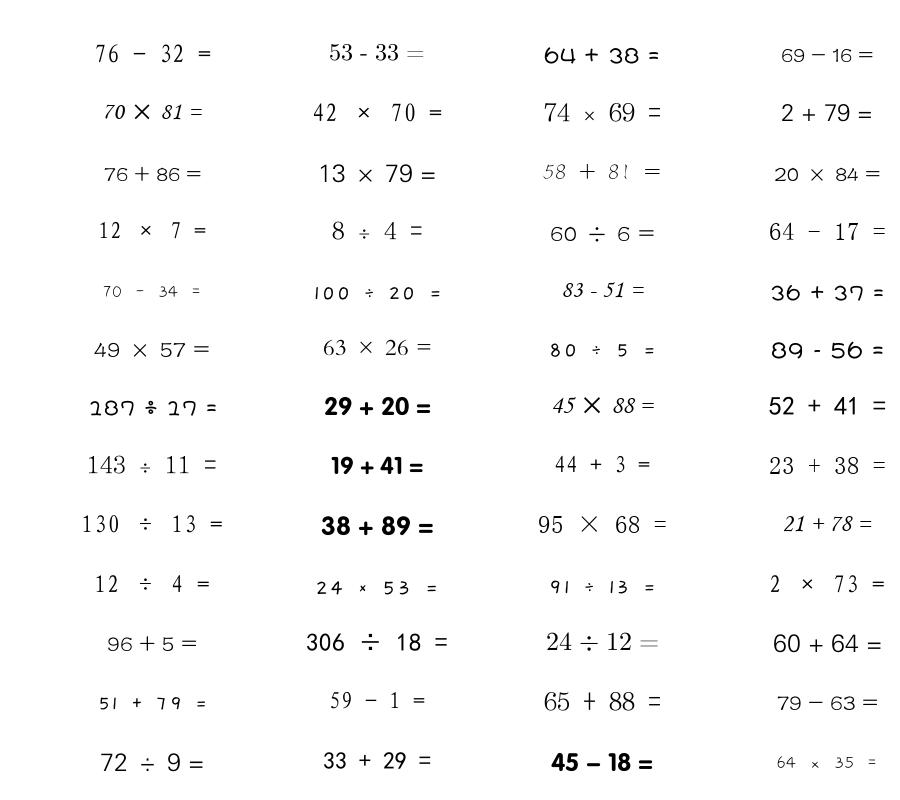MQ: (306, 633, 448, 652), (81, 515, 223, 533), (312, 103, 442, 122), (87, 455, 217, 474), (544, 102, 661, 122), (544, 691, 661, 711), (321, 516, 434, 536), (318, 164, 436, 183), (94, 44, 211, 63), (769, 396, 886, 415), (538, 516, 667, 533), (546, 632, 659, 651), (324, 396, 431, 416), (769, 222, 886, 240), (94, 575, 210, 593), (769, 575, 885, 593), (773, 634, 882, 653), (88, 400, 217, 416), (551, 752, 653, 772), (771, 341, 884, 359), (769, 457, 886, 474), (100, 753, 204, 772), (544, 47, 660, 64), (98, 221, 206, 239), (770, 284, 884, 301), (543, 164, 661, 180), (94, 342, 210, 358), (323, 339, 432, 356), (323, 752, 431, 769), (551, 397, 654, 414), (331, 456, 423, 475), (315, 581, 439, 595), (332, 221, 423, 240), (329, 43, 425, 61), (554, 455, 650, 473), (329, 691, 425, 709), (550, 226, 655, 242), (313, 287, 442, 300), (781, 104, 873, 122), (102, 104, 202, 120), (774, 167, 880, 182), (104, 166, 201, 182), (782, 515, 872, 532), (107, 635, 197, 652), (548, 343, 656, 357), (548, 580, 656, 594), (97, 697, 208, 710), (777, 696, 878, 710), (561, 282, 644, 298), (776, 756, 878, 769), (781, 48, 873, 62), (102, 286, 202, 298)
